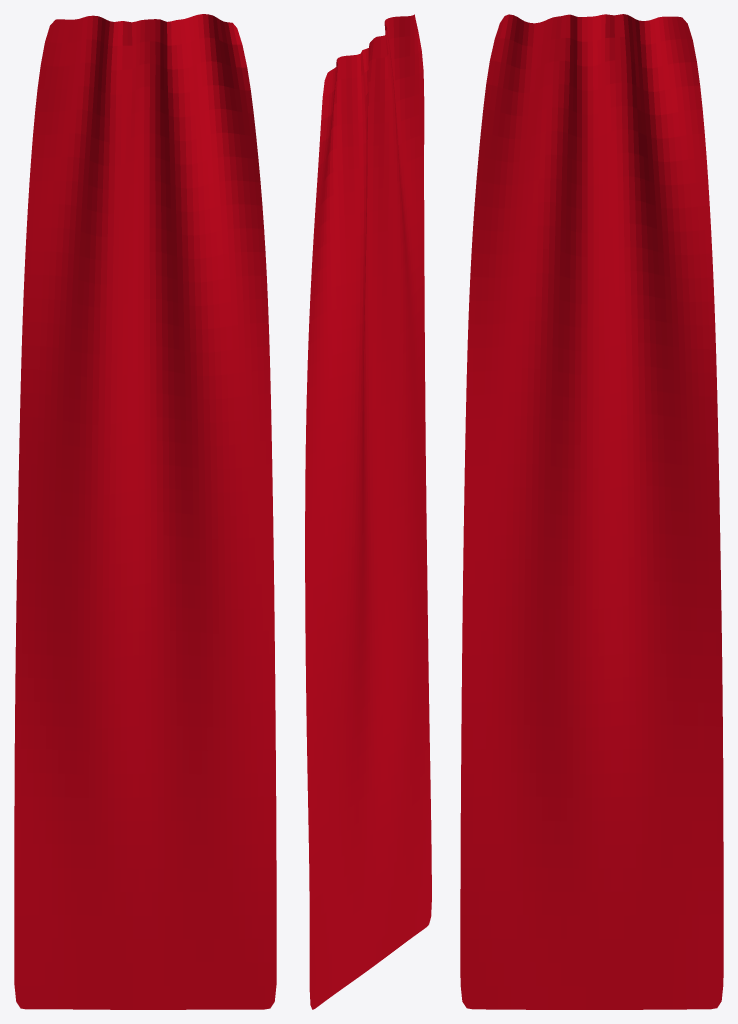
Rendered from Curtain.fbx.
3 views of the same model, side by side, from view 1: azimuth 90°, elevation 25°; view 2: azimuth 150°, elevation 25°; view 3: azimuth 270°, elevation 25° (orthographic). The views are drawn at different scales.
Parts seen in each view (by area): view 1: Object; view 2: Object; view 3: Object.
Part boxes in pixels (bbox=[...]): Object: bbox=[14, 14, 276, 1009]; Object: bbox=[305, 14, 431, 1009]; Object: bbox=[460, 14, 723, 1009].
Size of the model in its own units: 28.58 by 1119 by 269.
